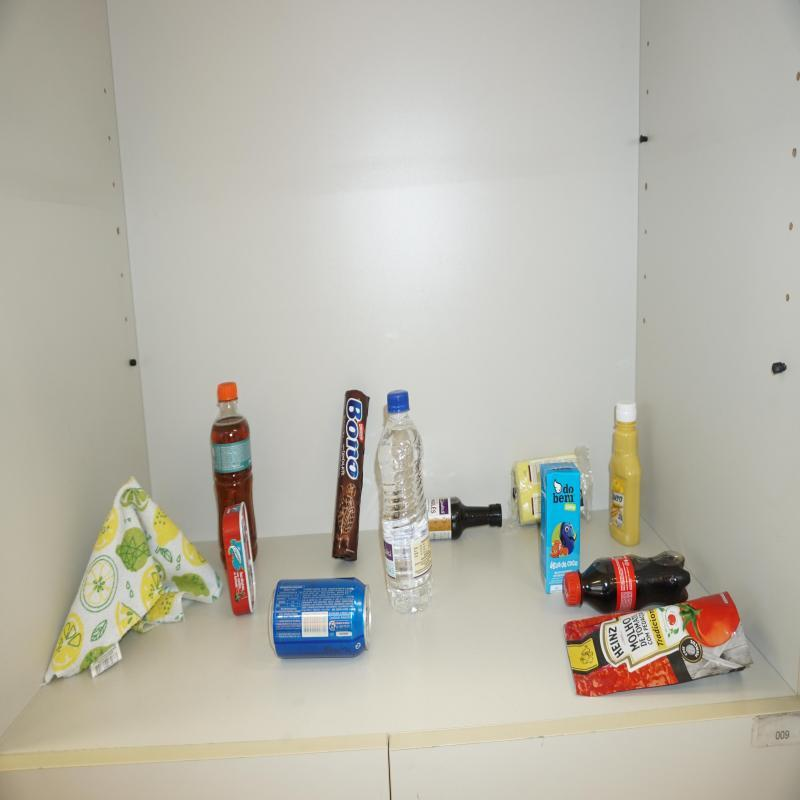Cloth: (44, 481, 219, 684)
CoconutWater: (540, 460, 581, 595)
Coke: (563, 555, 691, 615)
Cookies: (330, 389, 369, 564)
EnglishSauce: (426, 496, 503, 540)
IceTea: (211, 383, 258, 568)
Mustard: (609, 403, 643, 547)
Sponge: (512, 446, 590, 527)
TomatoSauce: (564, 595, 748, 698)
Tonic: (270, 578, 368, 663)
TunaCan: (222, 502, 256, 616)
Water: (378, 391, 432, 617)
